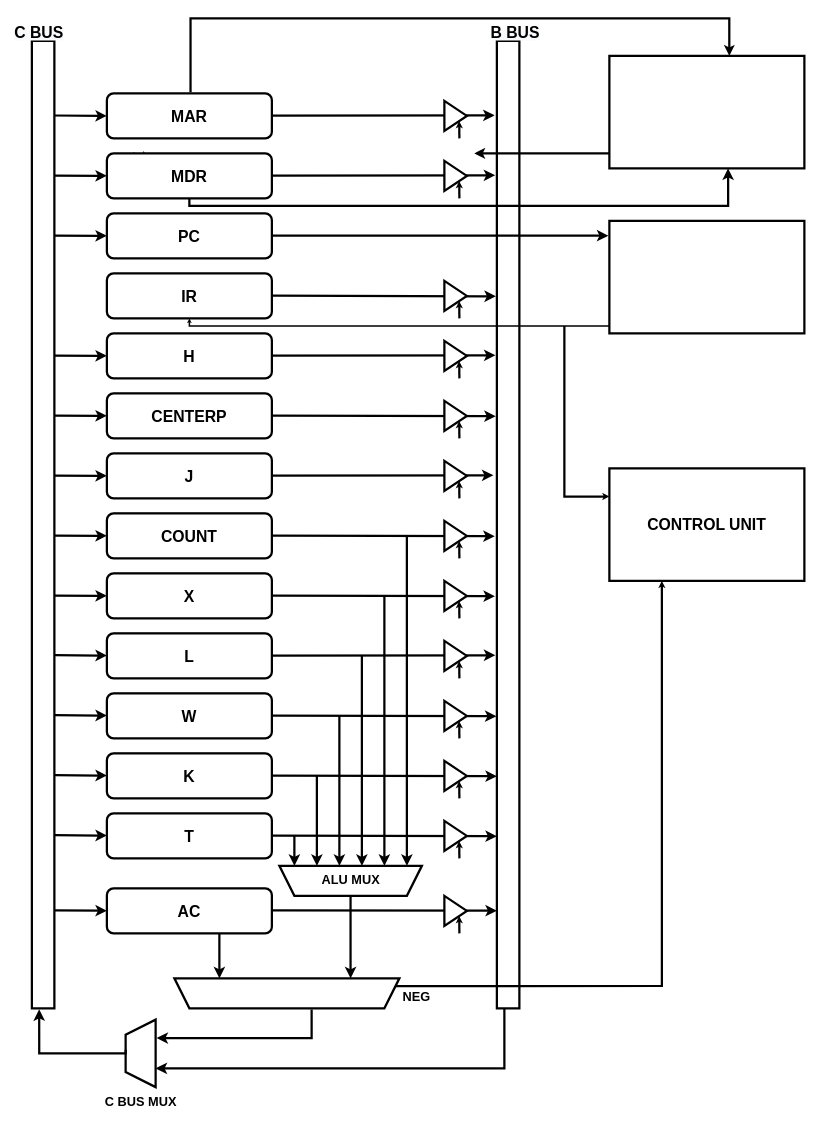
The diagram is 818 pixels wide and 1127 high, and some of its shapes have lost their labels. Each missing label, with the centre of its shape:
"ALU" belongs at (286,993).
"DRAM" belongs at (706,111).
"IRAM" belongs at (706,276).
